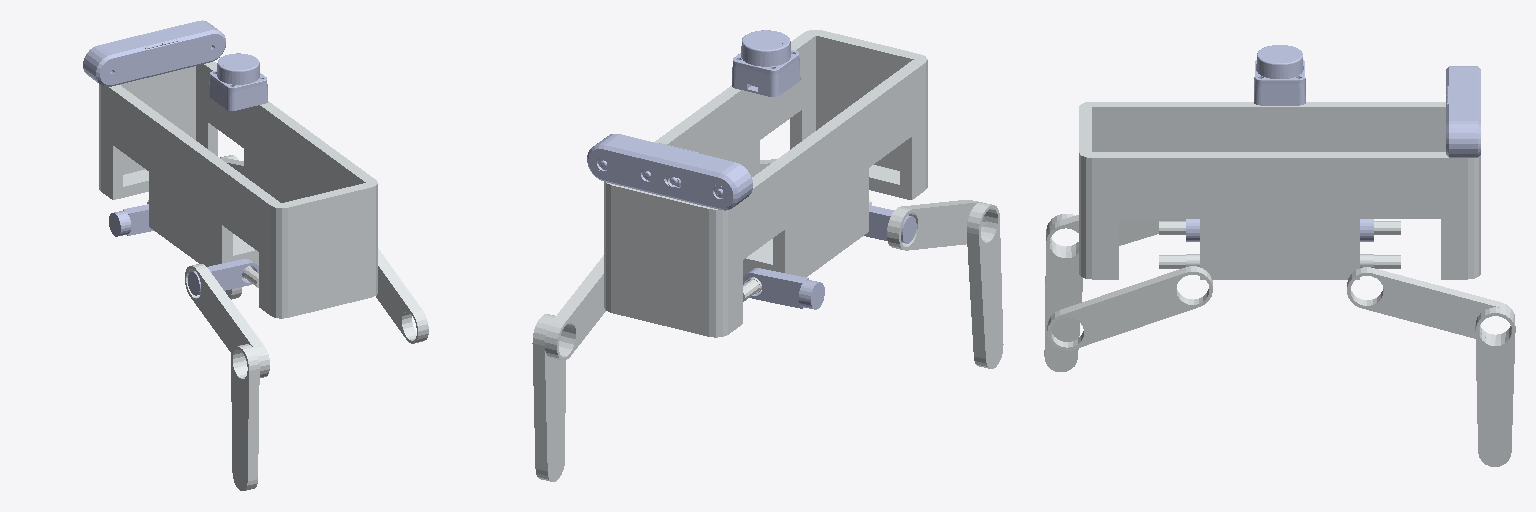
robot.urdf — quadrobot:
<?xml version="1.0" encoding="utf-8"?>
<!-- This URDF was automatically created by SolidWorks to URDF Exporter! Originally created by [author] ([email redacted]) 
     Commit Version: 1.6.0-4-g7f85cfe  Build Version: 1.6.7995.38578
     For more information, please see http://wiki.ros.org/sw_urdf_exporter -->
<robot
  name="quadrobot">
  <link
    name="base_link">
    <inertial>
      <origin
        xyz="2.6021E-18 0 0.042427"
        rpy="0 0 0" />
      <mass
        value="2.3354" />
      <inertia
        ixx="0.0226"
        ixy="1.9475E-18"
        ixz="-9.812E-19"
        iyy="0.0055193"
        iyz="-9.7804E-18"
        izz="0.023397" />
    </inertial>
    <visual>
      <origin
        xyz="0 0 0"
        rpy="0 0 0" />
      <geometry>
        <mesh
          filename="package://quadrobot/meshes/base_link.STL" />
      </geometry>
      <material
        name="">
        <color
          rgba="0.89804 0.91765 0.92941 1" />
      </material>
    </visual>
    <collision>
      <origin
        xyz="0 0 0"
        rpy="0 0 0" />
      <geometry>
        <mesh
          filename="package://quadrobot/meshes/base_link.STL" />
      </geometry>
    </collision>
  </link>
  <link
    name="FLA">
    <inertial>
      <origin
        xyz="-0.026925 -1.7347E-18 0.01"
        rpy="0 0 0" />
      <mass
        value="0.010945" />
      <inertia
        ixx="5.032E-07"
        ixy="-2.2747E-22"
        ixz="2.1072E-22"
        iyy="2.8775E-06"
        iyz="2.9129E-23"
        izz="3.0936E-06" />
    </inertial>
    <visual>
      <origin
        xyz="0 0 0"
        rpy="0 0 0" />
      <geometry>
        <mesh
          filename="package://quadrobot/meshes/FLA.STL" />
      </geometry>
      <material
        name="">
        <color
          rgba="0.79216 0.81961 0.93333 1" />
      </material>
    </visual>
    <collision>
      <origin
        xyz="0 0 0"
        rpy="0 0 0" />
      <geometry>
        <mesh
          filename="package://quadrobot/meshes/FLA.STL" />
      </geometry>
    </collision>
  </link>
  <joint
    name="joint_FLA"
    type="revolute">
    <origin
      xyz="0.03 -0.055 0.005"
      rpy="-1.5708 0.0092604 -3.1416" />
    <parent
      link="base_link" />
    <child
      link="FLA" />
    <axis
      xyz="0 0 1" />
    <limit
      lower="-1.57"
      upper="1.57"
      effort="1.47"
      velocity="5.81" />
  </joint>
  <link
    name="FLB">
    <inertial>
      <origin
        xyz="3.4694E-18 -0.05 0.0056809"
        rpy="0 0 0" />
      <mass
        value="0.073578" />
      <inertia
        ixx="6.1746E-05"
        ixy="-3.5999E-21"
        ixz="-7.4115E-22"
        iyy="6.7263E-06"
        iyz="2.29E-20"
        izz="6.7246E-05" />
    </inertial>
    <visual>
      <origin
        xyz="0 0 0"
        rpy="0 0 0" />
      <geometry>
        <mesh
          filename="package://quadrobot/meshes/FLB.STL" />
      </geometry>
      <material
        name="">
        <color
          rgba="0.89804 0.91765 0.92941 1" />
      </material>
    </visual>
    <collision>
      <origin
        xyz="0 0 0"
        rpy="0 0 0" />
      <geometry>
        <mesh
          filename="package://quadrobot/meshes/FLB.STL" />
      </geometry>
    </collision>
  </link>
  <joint
    name="joint_FLB"
    type="revolute">
    <origin
      xyz="-0.039319 0 0.01"
      rpy="-1.5708 0.35696 1.5708" />
    <parent
      link="FLA" />
    <child
      link="FLB" />
    <axis
      xyz="0 0 1" />
    <limit
      lower="-1.57"
      upper="1.57"
      effort="1.47"
      velocity="5.81" />
  </joint>
  <link
    name="FLC">
    <inertial>
      <origin
        xyz="-5.5511E-17 -0.054909 0.0061924"
        rpy="0 0 0" />
      <mass
        value="0.077166" />
      <inertia
        ixx="7.7817E-05"
        ixy="-7.9383E-20"
        ixz="4.566E-22"
        iyy="5.639E-06"
        iyz="-7.5273E-21"
        izz="8.217E-05" />
    </inertial>
    <visual>
      <origin
        xyz="0 0 0"
        rpy="0 0 0" />
      <geometry>
        <mesh
          filename="package://quadrobot/meshes/FLC.STL" />
      </geometry>
      <material
        name="">
        <color
          rgba="0.89804 0.91765 0.92941 1" />
      </material>
    </visual>
    <collision>
      <origin
        xyz="0 0 0"
        rpy="0 0 0" />
      <geometry>
        <mesh
          filename="package://quadrobot/meshes/FLC.STL" />
      </geometry>
    </collision>
  </link>
  <joint
    name="joint_FLC"
    type="revolute">
    <origin
      xyz="0 -0.1 0.0094885"
      rpy="0 0 1.1668" />
    <parent
      link="FLB" />
    <child
      link="FLC" />
    <axis
      xyz="0 0 1" />
    <limit
      lower="-1.57"
      upper="1.57"
      effort="1.47"
      velocity="5.81" />
  </joint>
  <link
    name="FRA">
    <inertial>
      <origin
        xyz="-0.0269253957823772 0 0.01"
        rpy="0 0 0" />
      <mass
        value="0.0109452431127404" />
      <inertia
        ixx="5.03196139245203E-07"
        ixy="-3.14328632770151E-23"
        ixz="9.86921140643361E-23"
        iyy="2.87751254725242E-06"
        iyz="1.66376389752816E-23"
        izz="3.09356821283229E-06" />
    </inertial>
    <visual>
      <origin
        xyz="0 0 0"
        rpy="0 0 0" />
      <geometry>
        <mesh
          filename="package://quadrobot/meshes/FRA.STL" />
      </geometry>
      <material
        name="">
        <color
          rgba="0.792156862745098 0.819607843137255 0.933333333333333 1" />
      </material>
    </visual>
    <collision>
      <origin
        xyz="0 0 0"
        rpy="0 0 0" />
      <geometry>
        <mesh
          filename="package://quadrobot/meshes/FRA.STL" />
      </geometry>
    </collision>
  </link>
  <joint
    name="joint_FRA"
    type="revolute">
    <origin
      xyz="-0.03 -0.055 0.005"
      rpy="1.5708 0.022451 0" />
    <parent
      link="base_link" />
    <child
      link="FRA" />
    <axis
      xyz="0 0 1" />
    <limit
      lower="-1.57"
      upper="1.57"
      effort="1.47"
      velocity="5.81" />
  </joint>
  <link
    name="FRB">
    <inertial>
      <origin
        xyz="2.7756E-17 -0.05 -0.004995"
        rpy="0 0 0" />
      <mass
        value="0.073578" />
      <inertia
        ixx="6.1746E-05"
        ixy="3.007E-20"
        ixz="8.4703E-22"
        iyy="6.7263E-06"
        iyz="5.0756E-21"
        izz="6.7246E-05" />
    </inertial>
    <visual>
      <origin
        xyz="0 0 0"
        rpy="0 0 0" />
      <geometry>
        <mesh
          filename="package://quadrobot/meshes/FRB.STL" />
      </geometry>
      <material
        name="">
        <color
          rgba="0.89804 0.91765 0.92941 1" />
      </material>
    </visual>
    <collision>
      <origin
        xyz="0 0 0"
        rpy="0 0 0" />
      <geometry>
        <mesh
          filename="package://quadrobot/meshes/FRB.STL" />
      </geometry>
    </collision>
  </link>
  <joint
    name="joint_FRB"
    type="revolute">
    <origin
      xyz="-0.040005 0 0.01"
      rpy="-1.5708 0.33034 -1.5708" />
    <parent
      link="FRA" />
    <child
      link="FRB" />
    <axis
      xyz="0 0 1" />
    <limit
      lower="-1.57"
      upper="1.57"
      effort="1.47"
      velocity="5.81" />
  </joint>
  <link
    name="FRC">
    <inertial>
      <origin
        xyz="-8.3267E-17 -0.054909 -0.004995"
        rpy="0 0 0" />
      <mass
        value="0.077166" />
      <inertia
        ixx="7.7817E-05"
        ixy="2.3042E-20"
        ixz="-1.9257E-21"
        iyy="5.639E-06"
        iyz="3.2703E-20"
        izz="8.217E-05" />
    </inertial>
    <visual>
      <origin
        xyz="0 0 0"
        rpy="0 0 0" />
      <geometry>
        <mesh
          filename="package://quadrobot/meshes/FRC.STL" />
      </geometry>
      <material
        name="">
        <color
          rgba="0.89804 0.91765 0.92941 1" />
      </material>
    </visual>
    <collision>
      <origin
        xyz="0 0 0"
        rpy="0 0 0" />
      <geometry>
        <mesh
          filename="package://quadrobot/meshes/FRC.STL" />
      </geometry>
    </collision>
  </link>
  <joint
    name="joint_FRC"
    type="revolute">
    <origin
      xyz="0 -0.1 -0.01"
      rpy="0 0 1.2033" />
    <parent
      link="FRB" />
    <child
      link="FRC" />
    <axis
      xyz="0 0 1" />
    <limit
      lower="-1.57"
      upper="1.57"
      effort="1.47"
      velocity="5.81" />
  </joint>
  <link
    name="BLA">
    <inertial>
      <origin
        xyz="-0.0269253957823772 8.67361737988404E-19 0.01"
        rpy="0 0 0" />
      <mass
        value="0.0109452431127404" />
      <inertia
        ixx="5.03196139245203E-07"
        ixy="1.7908460261773E-22"
        ixz="-1.25428718015424E-21"
        iyy="2.87751254725242E-06"
        iyz="-1.69665031772835E-23"
        izz="3.09356821283229E-06" />
    </inertial>
    <visual>
      <origin
        xyz="0 0 0"
        rpy="0 0 0" />
      <geometry>
        <mesh
          filename="package://quadrobot/meshes/BLA.STL" />
      </geometry>
      <material
        name="">
        <color
          rgba="0.792156862745098 0.819607843137255 0.933333333333333 1" />
      </material>
    </visual>
    <collision>
      <origin
        xyz="0 0 0"
        rpy="0 0 0" />
      <geometry>
        <mesh
          filename="package://quadrobot/meshes/BLA.STL" />
      </geometry>
    </collision>
  </link>
  <joint
    name="joint_BLA"
    type="revolute">
    <origin
      xyz="0.03 0.055 0.005"
      rpy="1.5708 -0.0079223 3.1416" />
    <parent
      link="base_link" />
    <child
      link="BLA" />
    <axis
      xyz="0 0 1" />
    <limit
      lower="-1.57"
      upper="1.57"
      effort="1.47"
      velocity="5.81" />
  </joint>
  <link
    name="BLB">
    <inertial>
      <origin
        xyz="-2.7756E-17 -0.05 0.0049994"
        rpy="0 0 0" />
      <mass
        value="0.073578" />
      <inertia
        ixx="6.1746E-05"
        ixy="-3.4517E-20"
        ixz="3.1234E-21"
        iyy="6.7263E-06"
        iyz="2.5262E-21"
        izz="6.7246E-05" />
    </inertial>
    <visual>
      <origin
        xyz="0 0 0"
        rpy="0 0 0" />
      <geometry>
        <mesh
          filename="package://quadrobot/meshes/BLB.STL" />
      </geometry>
      <material
        name="">
        <color
          rgba="0.89804 0.91765 0.92941 1" />
      </material>
    </visual>
    <collision>
      <origin
        xyz="0 0 0"
        rpy="0 0 0" />
      <geometry>
        <mesh
          filename="package://quadrobot/meshes/BLB.STL" />
      </geometry>
    </collision>
  </link>
  <joint
    name="joint_BLB"
    type="revolute">
    <origin
      xyz="-0.040001 0 0.01"
      rpy="-1.5708 -0.28877 1.5708" />
    <parent
      link="BLA" />
    <child
      link="BLB" />
    <axis
      xyz="0 0 1" />
    <limit
      lower="-1.57"
      upper="1.57"
      effort="1.47"
      velocity="5.81" />
  </joint>
  <link
    name="BLC">
    <inertial>
      <origin
        xyz="5.5511E-17 -0.054909 0.0049994"
        rpy="0 0 0" />
      <mass
        value="0.077166" />
      <inertia
        ixx="7.7817E-05"
        ixy="7.8185E-20"
        ixz="-1.2079E-21"
        iyy="5.639E-06"
        iyz="-2.4154E-22"
        izz="8.217E-05" />
    </inertial>
    <visual>
      <origin
        xyz="0 0 0"
        rpy="0 0 0" />
      <geometry>
        <mesh
          filename="package://quadrobot/meshes/BLC.STL" />
      </geometry>
      <material
        name="">
        <color
          rgba="0.89804 0.91765 0.92941 1" />
      </material>
    </visual>
    <collision>
      <origin
        xyz="0 0 0"
        rpy="0 0 0" />
      <geometry>
        <mesh
          filename="package://quadrobot/meshes/BLC.STL" />
      </geometry>
    </collision>
  </link>
  <joint
    name="joint_BLC"
    type="revolute">
    <origin
      xyz="0 -0.1 0.01"
      rpy="0 0 -1.2863" />
    <parent
      link="BLB" />
    <child
      link="BLC" />
    <axis
      xyz="0 0 1" />
    <limit
      lower="-1.57"
      upper="1.57"
      effort="1.47"
      velocity="5.81" />
  </joint>
  <link
    name="BRA">
    <inertial>
      <origin
        xyz="-0.0269253957823772 3.90312782094782E-18 0.01"
        rpy="0 0 0" />
      <mass
        value="0.0109452431127404" />
      <inertia
        ixx="5.03196139245204E-07"
        ixy="3.93737971575241E-22"
        ixz="1.23424088551717E-21"
        iyy="2.87751254725243E-06"
        iyz="2.79143250895578E-23"
        izz="3.0935682128323E-06" />
    </inertial>
    <visual>
      <origin
        xyz="0 0 0"
        rpy="0 0 0" />
      <geometry>
        <mesh
          filename="package://quadrobot/meshes/BRA.STL" />
      </geometry>
      <material
        name="">
        <color
          rgba="0.792156862745098 0.819607843137255 0.933333333333333 1" />
      </material>
    </visual>
    <collision>
      <origin
        xyz="0 0 0"
        rpy="0 0 0" />
      <geometry>
        <mesh
          filename="package://quadrobot/meshes/BRA.STL" />
      </geometry>
    </collision>
  </link>
  <joint
    name="joint_BRA"
    type="revolute">
    <origin
      xyz="-0.03 0.055 0.005"
      rpy="-1.5708 0.040291 0" />
    <parent
      link="base_link" />
    <child
      link="BRA" />
    <axis
      xyz="0 0 1" />
    <limit
      lower="-1.57"
      upper="1.57"
      effort="1.47"
      velocity="5.81" />
  </joint>
  <link
    name="BRB">
    <inertial>
      <origin
        xyz="2.0817E-17 -0.05 -0.0049838"
        rpy="0 0 0" />
      <mass
        value="0.073578" />
      <inertia
        ixx="6.1746E-05"
        ixy="2.2235E-20"
        ixz="3.3881E-21"
        iyy="6.7263E-06"
        iyz="-4.0572E-20"
        izz="6.7246E-05" />
    </inertial>
    <visual>
      <origin
        xyz="0 0 0"
        rpy="0 0 0" />
      <geometry>
        <mesh
          filename="package://quadrobot/meshes/BRB.STL" />
      </geometry>
      <material
        name="">
        <color
          rgba="0.89804 0.91765 0.92941 1" />
      </material>
    </visual>
    <collision>
      <origin
        xyz="0 0 0"
        rpy="0 0 0" />
      <geometry>
        <mesh
          filename="package://quadrobot/meshes/BRB.STL" />
      </geometry>
    </collision>
  </link>
  <joint
    name="joint_BRB"
    type="revolute">
    <origin
      xyz="-0.040016 0 0.01"
      rpy="-1.5708 -0.33726 -1.5708" />
    <parent
      link="BRA" />
    <child
      link="BRB" />
    <axis
      xyz="0 0 1" />
    <limit
      lower="-1.57"
      upper="1.57"
      effort="1.47"
      velocity="5.81" />
  </joint>
  <link
    name="BRC">
    <inertial>
      <origin
        xyz="8.3267E-17 -0.054909 -0.0049838"
        rpy="0 0 0" />
      <mass
        value="0.077166" />
      <inertia
        ixx="7.7817E-05"
        ixy="-7.2256E-20"
        ixz="1.2805E-21"
        iyy="5.639E-06"
        iyz="-1.7338E-21"
        izz="8.217E-05" />
    </inertial>
    <visual>
      <origin
        xyz="0 0 0"
        rpy="0 0 0" />
      <geometry>
        <mesh
          filename="package://quadrobot/meshes/BRC.STL" />
      </geometry>
      <material
        name="">
        <color
          rgba="0.89804 0.91765 0.92941 1" />
      </material>
    </visual>
    <collision>
      <origin
        xyz="0 0 0"
        rpy="0 0 0" />
      <geometry>
        <mesh
          filename="package://quadrobot/meshes/BRC.STL" />
      </geometry>
    </collision>
  </link>
  <joint
    name="joint_BRC"
    type="revolute">
    <origin
      xyz="0 -0.1 -0.01"
      rpy="0 0 -1.2397" />
    <parent
      link="BRB" />
    <child
      link="BRC" />
    <axis
      xyz="0 0 1" />
    <limit
      lower="-1.57"
      upper="1.57"
      effort="1.47"
      velocity="5.81" />
  </joint>
  <link
    name="CAMERA">
    <inertial>
      <origin
        xyz="1.0628E-06 0.010196 -0.014491"
        rpy="0 0 0" />
      <mass
        value="0.084781" />
      <inertia
        ixx="9.7234E-06"
        ixy="-4.6578E-09"
        ixz="3.4245E-12"
        iyy="0.00010402"
        iyz="8.994E-09"
        izz="0.00010256" />
    </inertial>
    <visual>
      <origin
        xyz="0 0 0"
        rpy="0 0 0" />
      <geometry>
        <mesh
          filename="package://quadrobot/meshes/CAMERA.STL" />
      </geometry>
      <material
        name="">
        <color
          rgba="0.79216 0.81961 0.93333 1" />
      </material>
    </visual>
    <collision>
      <origin
        xyz="0 0 0"
        rpy="0 0 0" />
      <geometry>
        <mesh
          filename="package://quadrobot/meshes/CAMERA.STL" />
      </geometry>
    </collision>
  </link>
  <joint
    name="joint_CAMERA"
    type="fixed">
    <origin
      xyz="-0.0005 0.1265 0.129"
      rpy="0 0 0" />
    <parent
      link="base_link" />
    <child
      link="CAMERA" />
    <axis
      xyz="0 0 0" />
  </joint>
  <link
    name="LIDAR">
    <inertial>
      <origin
        xyz="-0.00041097 -0.00010894 0.015274"
        rpy="0 0 0" />
      <mass
        value="0.04029" />
      <inertia
        ixx="7.6172E-06"
        ixy="-9.7865E-08"
        ixz="-2.3074E-08"
        iyy="7.6883E-06"
        iyz="-5.5191E-08"
        izz="8.2838E-06" />
    </inertial>
    <visual>
      <origin
        xyz="0 0 0"
        rpy="0 0 0" />
      <geometry>
        <mesh
          filename="package://quadrobot/meshes/LIDAR.STL" />
      </geometry>
      <material
        name="">
        <color
          rgba="0.79216 0.81961 0.93333 1" />
      </material>
    </visual>
    <collision>
      <origin
        xyz="0 0 0"
        rpy="0 0 0" />
      <geometry>
        <mesh
          filename="package://quadrobot/meshes/LIDAR.STL" />
      </geometry>
    </collision>
  </link>
  <joint
    name="joint_LIDAR"
    type="fixed">
    <origin
      xyz="0 0 0.129"
      rpy="0 0.02618 0" />
    <parent
      link="base_link" />
    <child
      link="LIDAR" />
    <axis
      xyz="0 0 0" />
    <limit
      lower="0"
      upper="0"
      effort="0"
      velocity="0" />
  </joint>
</robot>

--- Render facts (derived) ---
The picture shows the robot from 3 angles, left to right: view 1: azimuth 30°, elevation 25°; view 2: azimuth 150°, elevation 25°; view 3: azimuth 270°, elevation 25°; orthographic projection.
Robot: quadrobot — 15 links, 14 joints (12 revolute, 2 fixed); root link base_link; default pose: every joint at zero.
Visible links, largest first — view 1: base_link, CAMERA, FRC, FRB, LIDAR, FLB, FRA, BRA; view 2: base_link, CAMERA, FRC, BLC, LIDAR, FRB, BLB, BRA, FRA; view 3: base_link, FLB, BLB, BLC, FRC, CAMERA, LIDAR, FRB.
Link boxes in pixels (left/top/right/bottom): base_link: left=99, top=61, right=377, bottom=318; CAMERA: left=83, top=20, right=225, bottom=86; FRC: left=231, top=344, right=259, bottom=490; FRB: left=185, top=264, right=269, bottom=377; LIDAR: left=209, top=53, right=267, bottom=110; FLB: left=376, top=248, right=428, bottom=343; FRA: left=188, top=259, right=258, bottom=295; BRA: left=109, top=204, right=153, bottom=236; base_link: left=604, top=30, right=927, bottom=337; CAMERA: left=587, top=134, right=752, bottom=210; FRC: left=967, top=202, right=1003, bottom=368; BLC: left=532, top=314, right=565, bottom=481; LIDAR: left=732, top=30, right=800, bottom=96; FRB: left=887, top=200, right=985, bottom=250; BLB: left=545, top=255, right=605, bottom=360; BRA: left=743, top=268, right=824, bottom=309; FRA: left=864, top=205, right=916, bottom=243; base_link: left=1079, top=102, right=1480, bottom=279; FLB: left=1047, top=266, right=1212, bottom=350; BLB: left=1347, top=267, right=1514, bottom=339; BLC: left=1475, top=307, right=1515, bottom=466; FRC: left=1044, top=214, right=1082, bottom=371; CAMERA: left=1446, top=66, right=1480, bottom=157; LIDAR: left=1254, top=45, right=1305, bottom=105; FRB: left=1046, top=215, right=1185, bottom=260.
Bounding box of the posed robot: 0.1831 × 0.3516 × 0.301 m (x, y, z).
Meshes: 15 distinct files referenced, 10 mesh visuals loaded (10 binary STL); not drawn: 5 (file found but could not be loaded).